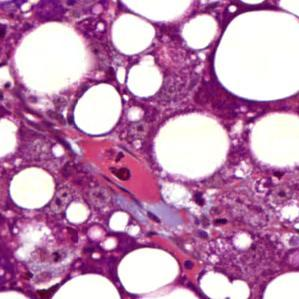steatosis: (215, 12, 299, 99), (155, 108, 230, 179), (18, 26, 88, 89), (120, 243, 181, 296), (7, 162, 60, 210), (75, 85, 124, 135), (109, 13, 158, 56), (125, 57, 166, 101), (184, 12, 216, 48), (66, 196, 97, 229), (107, 210, 132, 228)
